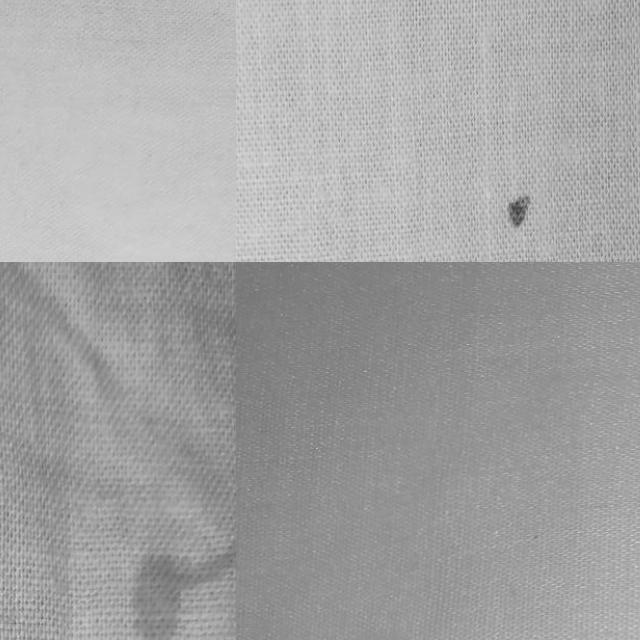Thread_other: (488, 174, 540, 232)
